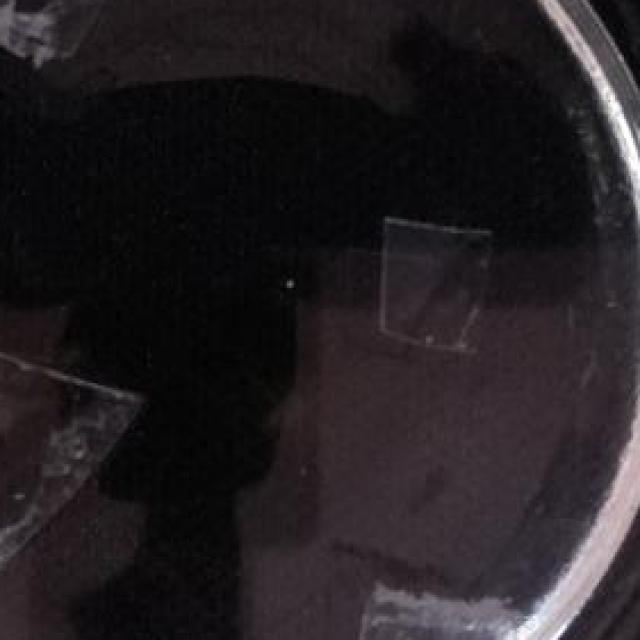Microplastic: (0, 328, 153, 602), (360, 219, 503, 366), (335, 578, 526, 640), (0, 0, 105, 76)
